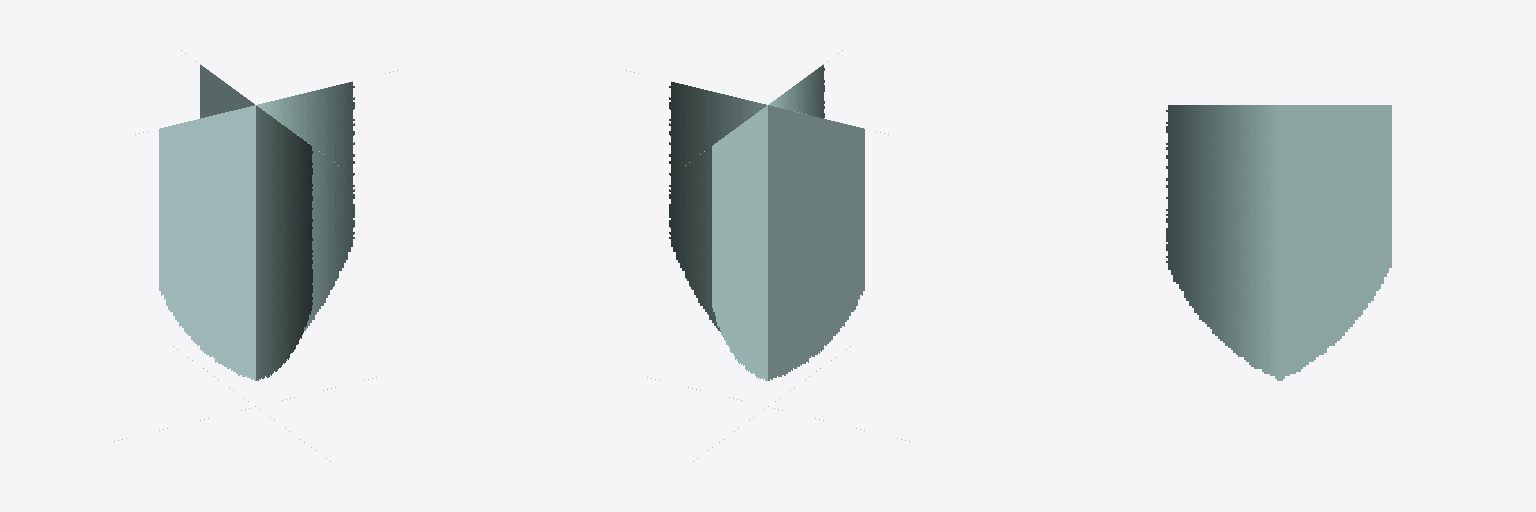
3 renders of one model, left to right at view 1: azimuth 30°, elevation 25°; view 2: azimuth 150°, elevation 25°; view 3: azimuth 270°, elevation 25°, orthographic.
Parts seen in each view (by area): view 1: image1; view 2: image1; view 3: image1.
Part boxes in pixels (bbox=[...]): image1: bbox=[114, 50, 397, 461]; image1: bbox=[626, 50, 909, 461]; image1: bbox=[1166, 105, 1391, 380].
Size of the model in its own units: 2 by 2 by 2.
3 materials, 1 textured.